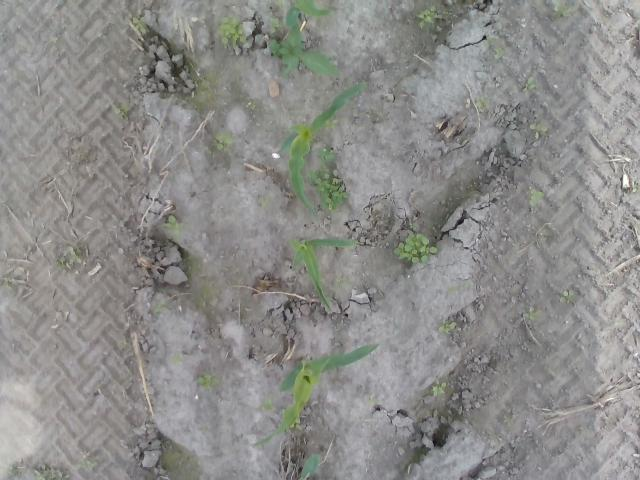Maize: (252, 340, 380, 454), (280, 81, 370, 218), (288, 236, 356, 310), (284, 0, 338, 31), (299, 455, 324, 480)
Weeds: (269, 25, 341, 82), (306, 144, 350, 211), (390, 230, 438, 264), (218, 13, 248, 48), (162, 214, 183, 240), (58, 248, 82, 270), (416, 5, 438, 28), (196, 368, 220, 387), (32, 468, 65, 480), (214, 132, 234, 151), (552, 0, 571, 17), (530, 120, 546, 139), (528, 188, 544, 207), (437, 320, 458, 333), (522, 77, 536, 95), (432, 382, 448, 397), (334, 275, 352, 288), (261, 398, 275, 414), (132, 16, 146, 32), (79, 453, 94, 467), (526, 306, 540, 321), (270, 16, 280, 36), (114, 102, 128, 116), (560, 289, 573, 303), (241, 99, 256, 110), (475, 96, 488, 108), (494, 47, 505, 59), (259, 196, 269, 208), (326, 118, 338, 128), (367, 398, 381, 406), (290, 418, 300, 428), (173, 354, 182, 364), (409, 222, 416, 230)
